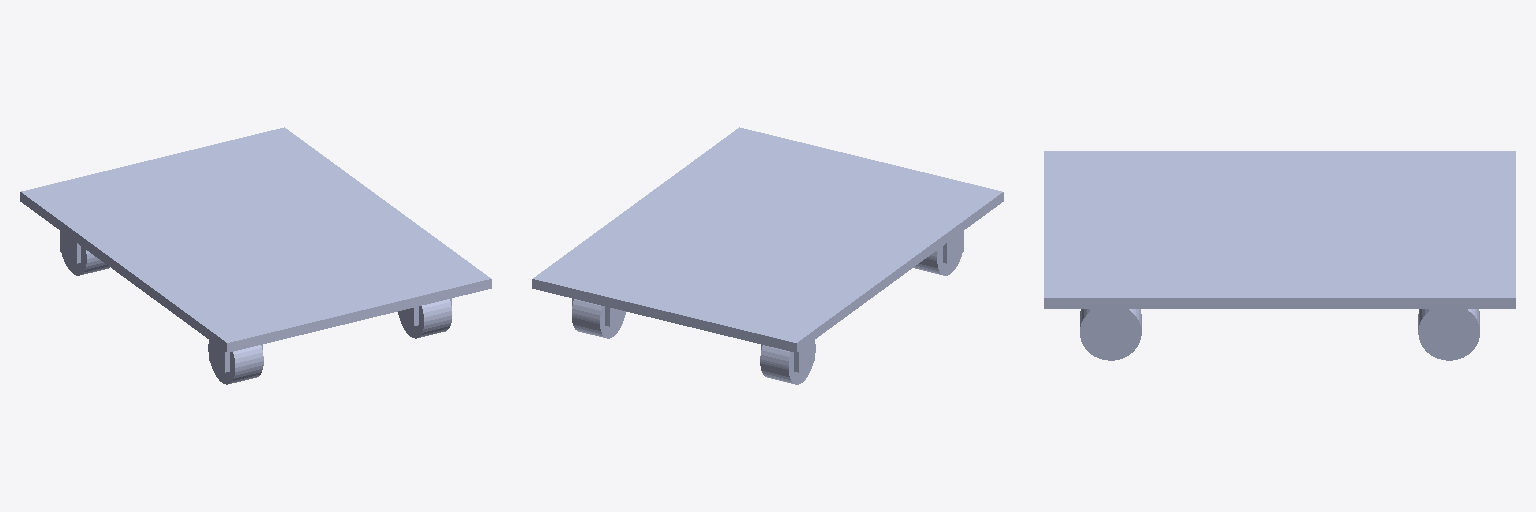
URDF robot description (alt_car_assembly):
<?xml version="1.0" encoding="utf-8"?>
<!-- This URDF was automatically created by SolidWorks to URDF Exporter! Originally created by [author] ([email redacted]) 
     Commit Version: 1.6.0-1-g15f4949  Build Version: 1.6.7594.29634
     For more information, please see http://wiki.ros.org/sw_urdf_exporter -->
<robot
  name="alt_car_assembly">
  <link name="dummy_link"/>
  <joint 
    name="dummy_joint"
    type="fixed">
    <parent link="dummy_link"/>
    <child link="chassis"/>
  </joint>
  <link
    name="chassis">
    <inertial>
      <origin
        xyz="-1.13008383898424E-16 0.0127 1.1234963901515E-16"
        rpy="0 0 0" />
      <mass
        value="17.2299101764948" />
      <inertia
        ixx="1.32974914515101"
        ixy="2.11758236813575E-20"
        ixz="-3.01120212748904E-16"
        iyy="2.05043247302463"
        iyz="2.11758236813573E-20"
        izz="0.722536002681863" />
    </inertial>
    <visual>
      <origin
        xyz="0 0 0"
        rpy="0 0 0" />
      <geometry>
        <mesh
          filename="package://alt_car_assembly/meshes/chassis.STL" />
      </geometry>
      <material
        name="">
        <color
          rgba="0.792156862745098 0.819607843137255 0.933333333333333 1" />
      </material>
    </visual>
    <collision>
      <origin
        xyz="0 0 0"
        rpy="0 0 0" />
      <geometry>
        <mesh
          filename="package://alt_car_assembly/meshes/chassis.STL" />
      </geometry>
    </collision>
  </link>
  <link
    name="hub_f_l">
    <inertial>
      <origin
        xyz="0 0.0324625099031435 0"
        rpy="0 0 0" />
      <mass
        value="0.334738405845382" />
      <inertia
        ixx="0.000566787961434065"
        ixy="-1.39410525233639E-19"
        ixz="2.10064170919066E-19"
        iyy="0.000587960662686382"
        iyz="7.40129452315766E-20"
        izz="0.000875439911652352" />
    </inertial>
    <visual>
      <origin
        xyz="0 0 0"
        rpy="0 0 0" />
      <geometry>
        <mesh
          filename="package://alt_car_assembly/meshes/hub_f_l.STL" />
      </geometry>
      <material
        name="">
        <color
          rgba="0.792156862745098 0.819607843137255 0.933333333333333 1" />
      </material>
    </visual>
    <collision>
      <origin
        xyz="0 0 0"
        rpy="0 0 0" />
      <geometry>
        <mesh
          filename="package://alt_car_assembly/meshes/hub_f_l.STL" />
      </geometry>
    </collision>
  </link>
  <joint
    name="front_left_steering"
    type="revolute">
    <origin
      xyz="0.254 -0.34677 0"
      rpy="-1.5708 0 0" />
    <parent
      link="chassis" />
    <child
      link="hub_f_l" />
    <axis
      xyz="0 1 0" />
    <limit
      lower="-3.14"
      upper="3.14"
      effort="10"
      velocity="1" />
  </joint>
  <link
    name="wheel_f_l">
    <inertial>
      <origin
        xyz="-3.88578058618805E-16 1.38777878078145E-17 -2.22044604925031E-16"
        rpy="0 0 0" />
      <mass
        value="0.926666637773504" />
      <inertia
        ixx="0.00141988958906164"
        ixy="-1.64129739327946E-37"
        ixz="-2.43945488809238E-19"
        iyy="0.00141988958906164"
        iyz="-4.69349834934246E-36"
        izz="0.00194300680608435" />
    </inertial>
    <visual>
      <origin
        xyz="0 0 0"
        rpy="0 0 0" />
      <geometry>
        <mesh
          filename="package://alt_car_assembly/meshes/wheel_f_l.STL" />
      </geometry>
      <material
        name="">
        <color
          rgba="0.792156862745098 0.819607843137255 0.933333333333333 1" />
      </material>
    </visual>
    <collision>
      <origin
        xyz="0 0 0"
        rpy="0 0 0" />
      <geometry>
        <mesh
          filename="package://alt_car_assembly/meshes/wheel_f_l.STL" />
      </geometry>
    </collision>
  </link>
  <joint
    name="front_left_axle"
    type="continuous">
    <origin
      xyz="0 0.08255 0"
      rpy="0 -1.5708 0" />
    <parent
      link="hub_f_l" />
    <child
      link="wheel_f_l" />
    <axis
      xyz="0 0 1" />
  	<limit
	  effort="10"
	  velocity="1" />
  </joint>
  <link
    name="hub_f_r">
    <inertial>
      <origin
        xyz="0 0.0324625099031435 0"
        rpy="0 0 0" />
      <mass
        value="0.334738405845383" />
      <inertia
        ixx="0.000566787961434066"
        ixy="-3.32625042313524E-21"
        ixz="-1.93970544921235E-19"
        iyy="0.000587960662686382"
        iyz="-8.83716172998184E-22"
        izz="0.000875439911652352" />
    </inertial>
    <visual>
      <origin
        xyz="0 0 0"
        rpy="0 0 0" />
      <geometry>
        <mesh
          filename="package://alt_car_assembly/meshes/hub_f_r.STL" />
      </geometry>
      <material
        name="">
        <color
          rgba="0.792156862745098 0.819607843137255 0.933333333333333 1" />
      </material>
    </visual>
    <collision>
      <origin
        xyz="0 0 0"
        rpy="0 0 0" />
      <geometry>
        <mesh
          filename="package://alt_car_assembly/meshes/hub_f_r.STL" />
      </geometry>
    </collision>
  </link>
  <joint
    name="front_right_steering"
    type="revolute">
    <origin
      xyz="-0.254 -0.34677 0"
      rpy="-1.5708 0 0" />
    <parent
      link="chassis" />
    <child
      link="hub_f_r" />
    <axis
      xyz="0 1 0" />
    <limit
    lower="-3.14"
    upper="3.14"
    effort="10"
    velocity="1" />
    
  </joint>
  <link
    name="wheel_f_r">
    <inertial>
      <origin
        xyz="5.55111512312578E-17 0 0"
        rpy="0 0 0" />
      <mass
        value="0.926666637773504" />
      <inertia
        ixx="0.00141988958906164"
        ixy="-1.6412973932795E-37"
        ixz="3.40507244796229E-19"
        iyy="0.00141988958906164"
        iyz="-4.69349834934245E-36"
        izz="0.00194300680608435" />
    </inertial>
    <visual>
      <origin
        xyz="0 0 0"
        rpy="0 0 0" />
      <geometry>
        <mesh
          filename="package://alt_car_assembly/meshes/wheel_f_r.STL" />
      </geometry>
      <material
        name="">
        <color
          rgba="0.792156862745098 0.819607843137255 0.933333333333333 1" />
      </material>
    </visual>
    <collision>
      <origin
        xyz="0 0 0"
        rpy="0 0 0" />
      <geometry>
        <mesh
          filename="package://alt_car_assembly/meshes/wheel_f_r.STL" />
      </geometry>
    </collision>
  </link>
  <joint
    name="front_right_axle"
    type="continuous">
    <origin
      xyz="0 0.08255 0"
      rpy="0 -1.5708 0" />
    <parent
      link="hub_f_r" />
    <child
      link="wheel_f_r" />
    <axis
      xyz="0 0 1" />
    <limit
	  effort="10"
	  velocity="1" />
  </joint>
  <link
    name="hub_r_r">
    <inertial>
      <origin
        xyz="-5.55111512312578E-17 0.0578625099031435 5.55111512312578E-17"
        rpy="0 0 0" />
      <mass
        value="0.334738405845382" />
      <inertia
        ixx="0.000566787961434064"
        ixy="1.32149634801042E-19"
        ixz="-9.49695306454753E-20"
        iyy="0.000587960662686381"
        iyz="2.25089532101838E-22"
        izz="0.000875439911652351" />
    </inertial>
    <visual>
      <origin
        xyz="0 0 0"
        rpy="0 0 0" />
      <geometry>
        <mesh
          filename="package://alt_car_assembly/meshes/hub_r_r.STL" />
      </geometry>
      <material
        name="">
        <color
          rgba="0.792156862745098 0.819607843137255 0.933333333333333 1" />
      </material>
    </visual>
    <collision>
      <origin
        xyz="0 0 0"
        rpy="0 0 0" />
      <geometry>
        <mesh
          filename="package://alt_car_assembly/meshes/hub_r_r.STL" />
      </geometry>
    </collision>
  </link>
  <joint
    name="rear_right_steering"
    type="fixed">
    <origin
      xyz="-0.254 0.34677 0.0254"
      rpy="-1.5708 0 3.1416" />
    <parent
      link="chassis" />
    <child
      link="hub_r_r" />
    <axis
      xyz="0 0 0" />
  </joint>
  <link
    name="wheel_r_r">
    <inertial>
      <origin
        xyz="-5.55111512312578E-17 0 1.66533453693773E-16"
        rpy="0 0 0" />
      <mass
        value="0.926666637773503" />
      <inertia
        ixx="0.00141988958906164"
        ixy="-1.64129739327948E-37"
        ixz="1.94682052891282E-19"
        iyy="0.00141988958906164"
        iyz="-4.69349834934246E-36"
        izz="0.00194300680608435" />
    </inertial>
    <visual>
      <origin
        xyz="0 0 0"
        rpy="0 0 0" />
      <geometry>
        <mesh
          filename="package://alt_car_assembly/meshes/wheel_r_r.STL" />
      </geometry>
      <material
        name="">
        <color
          rgba="0.792156862745098 0.819607843137255 0.933333333333333 1" />
      </material>
    </visual>
    <collision>
      <origin
        xyz="0 0 0"
        rpy="0 0 0" />
      <geometry>
        <mesh
          filename="package://alt_car_assembly/meshes/wheel_r_r.STL" />
      </geometry>
    </collision>
  </link>
  <joint
    name="rear_right_axle"
    type="continuous">
    <origin
      xyz="0 0.10795 0"
      rpy="3.1416 1.5708 0" />
    <parent
      link="hub_r_r" />
    <child
      link="wheel_r_r" />
    <axis
      xyz="0 0 1" />
    <limit
	  effort="10"
	  velocity="1" />
    
  </joint>
  <link
    name="hub_r_l">
    <inertial>
      <origin
        xyz="5.55111512312578E-17 0.0578625099031435 0"
        rpy="0 0 0" />
      <mass
        value="0.334738405845383" />
      <inertia
        ixx="0.000566787961434065"
        ixy="-1.60454472242266E-19"
        ixz="-4.92158596450278E-20"
        iyy="0.000587960662686383"
        iyz="-1.01861746001102E-19"
        izz="0.000875439911652353" />
    </inertial>
    <visual>
      <origin
        xyz="0 0 0"
        rpy="0 0 0" />
      <geometry>
        <mesh
          filename="package://alt_car_assembly/meshes/hub_r_l.STL" />
      </geometry>
      <material
        name="">
        <color
          rgba="0.792156862745098 0.819607843137255 0.933333333333333 1" />
      </material>
    </visual>
    <collision>
      <origin
        xyz="0 0 0"
        rpy="0 0 0" />
      <geometry>
        <mesh
          filename="package://alt_car_assembly/meshes/hub_r_l.STL" />
      </geometry>
    </collision>
  </link>
  <joint
    name="rear_left_steering"
    type="fixed">
    <origin
      xyz="0.254 0.34677 0.0254"
      rpy="-1.5708 0 3.1416" />
    <parent
      link="chassis" />
    <child
      link="hub_r_l" />
    <axis
      xyz="0 0 0" />
  </joint>
  <link
    name="wheel_r_l">
    <inertial>
      <origin
        xyz="5.55111512312578E-17 0 5.55111512312578E-17"
        rpy="0 0 0" />
      <mass
        value="0.926666637773504" />
      <inertia
        ixx="0.00141988958906164"
        ixy="-1.64129739327944E-37"
        ixz="1.89278381288076E-19"
        iyy="0.00141988958906164"
        iyz="-4.69349834934246E-36"
        izz="0.00194300680608435" />
    </inertial>
    <visual>
      <origin
        xyz="0 0 0"
        rpy="0 0 0" />
      <geometry>
        <mesh
          filename="package://alt_car_assembly/meshes/wheel_r_l.STL" />
      </geometry>
      <material
        name="">
        <color
          rgba="0.792156862745098 0.819607843137255 0.933333333333333 1" />
      </material>
    </visual>
    <collision>
      <origin
        xyz="0 0 0"
        rpy="0 0 0" />
      <geometry>
        <mesh
          filename="package://alt_car_assembly/meshes/wheel_r_l.STL" />
      </geometry>
    </collision>
  </link>
  <joint
    name="rear_left_axle"
    type="continuous">
    <origin
      xyz="0 0.10795 0"
      rpy="3.1416 1.5708 0" />
    <parent
      link="hub_r_l" />
    <child
      link="wheel_r_l" />
    <axis
      xyz="0 0 1" />
    <limit
	  effort="10"
	  velocity="1" />
  </joint>

  <transmission name="simple_trans">
    <type>transmission_interface/SimpleTransmission</type>
    <joint name="front_right_steering">
      <hardwareInterface>hardware_interface/EffortJointInterface</hardwareInterface>
    </joint>
    <actuator name="right_steering">
      <mechanicalReduction>50</mechanicalReduction>
      <hardwareInterface>hardware_interface/EffortJointInterface</hardwareInterface>
    </actuator>
  </transmission>

  <transmission name="simple_trans_2">
    <type>transmission_interface/SimpleTransmission</type>
    <joint name="front_left_steering">
      <hardwareInterface>hardware_interface/EffortJointInterface</hardwareInterface>
    </joint>
    <actuator name="left_steering">
      <mechanicalReduction>50</mechanicalReduction>
      <hardwareInterface>hardware_interface/EffortJointInterface</hardwareInterface>
    </actuator>
  </transmission>

  <transmission name="simple_trans_3">
    <type>transmission_interface/SimpleTransmission</type>
    <joint name="rear_left_axle">
      <hardwareInterface>hardware_interface/EffortJointInterface</hardwareInterface>
    </joint>
    <actuator name="left_drive">
      <mechanicalReduction>50</mechanicalReduction>
      <hardwareInterface>hardware_interface/EffortJointInterface</hardwareInterface>
    </actuator>
  </transmission>

  <transmission name="simple_trans_4">
    <type>transmission_interface/SimpleTransmission</type>
    <joint name="rear_right_axle">
      <hardwareInterface>hardware_interface/EffortJointInterface</hardwareInterface>
    </joint>
    <actuator name="right_drive">
      <mechanicalReduction>50</mechanicalReduction>
      <hardwareInterface>hardware_interface/EffortJointInterface</hardwareInterface>
    </actuator>
  </transmission>

  <gazebo>
    <plugin name="gazebo_ros_control" filename="libgazebo_ros_control.so">
    </plugin>
  </gazebo>
</robot>

--- What the picture shows (computed from the rendered views, not written in the file) ---
3 views of the same robot in one strip: view 1: azimuth 30°, elevation 25°; view 2: azimuth 150°, elevation 25°; view 3: azimuth 270°, elevation 25° (orthographic).
Robot: alt_car_assembly — 10 links, 9 joints (2 revolute, 4 continuous, 3 fixed); root link dummy_link; default pose: all joints at 0.
Links seen in each view (by area): view 1: chassis, wheel_f_r, wheel_f_l, wheel_r_r, hub_f_r, hub_r_r; view 2: chassis, wheel_r_r, wheel_r_l, wheel_f_r, hub_r_r, hub_f_r; view 3: chassis, wheel_f_l, wheel_r_l, hub_f_l, hub_r_l.
Link boxes in pixels (bbox=[...]): chassis: bbox=[20, 127, 491, 352]; wheel_f_r: bbox=[208, 344, 263, 384]; wheel_f_l: bbox=[399, 299, 451, 338]; wheel_r_r: bbox=[62, 246, 109, 275]; hub_f_r: bbox=[209, 308, 262, 372]; hub_r_r: bbox=[60, 199, 97, 263]; chassis: bbox=[532, 127, 1003, 352]; wheel_r_r: bbox=[760, 344, 815, 384]; wheel_r_l: bbox=[572, 299, 624, 338]; wheel_f_r: bbox=[914, 246, 961, 275]; hub_r_r: bbox=[761, 308, 814, 372]; hub_f_r: bbox=[926, 199, 963, 263]; chassis: bbox=[1044, 151, 1515, 308]; wheel_f_l: bbox=[1080, 309, 1141, 360]; wheel_r_l: bbox=[1418, 309, 1479, 360]; hub_f_l: bbox=[1092, 272, 1128, 343]; hub_r_l: bbox=[1431, 272, 1467, 343].
Bounding box of the posed robot: 0.7112 × 0.9652 × 0.1714 m (x, y, z).
Meshes: 9 distinct files referenced, 9 mesh visuals loaded (9 binary STL).